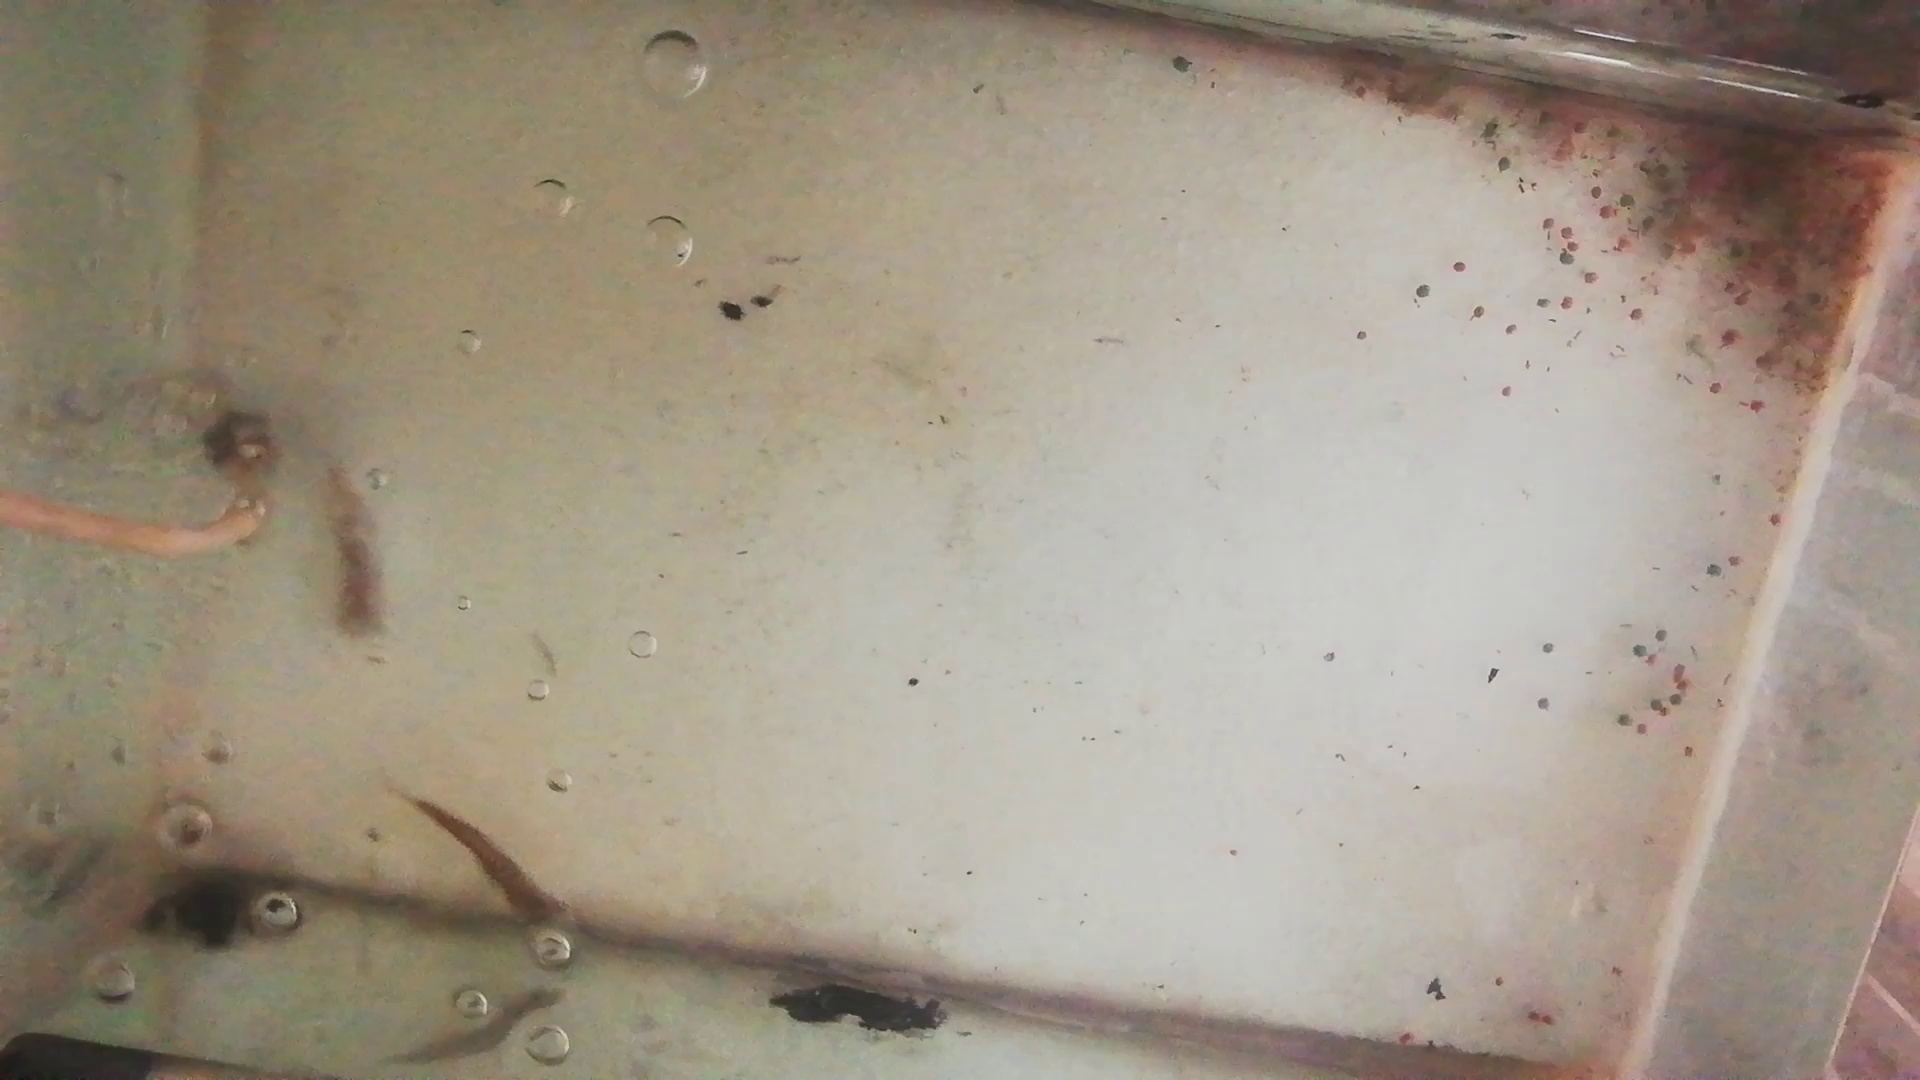fish: (413, 800, 572, 942), (322, 454, 385, 647)
